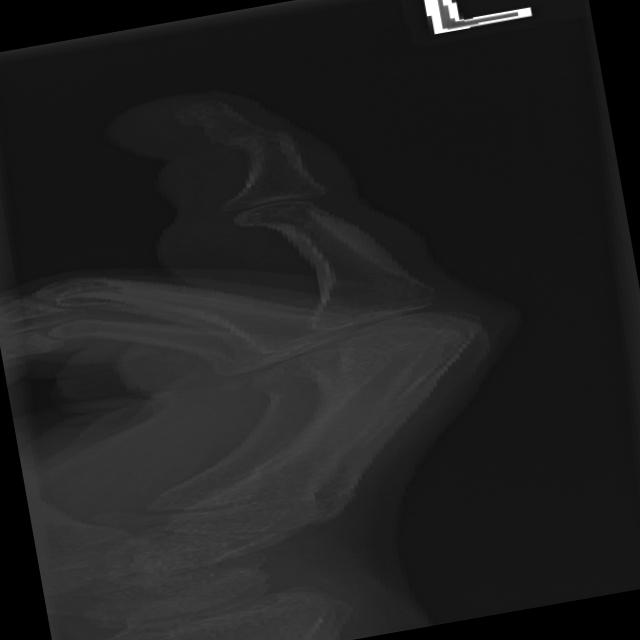fingers positive: (197, 122, 315, 155)
